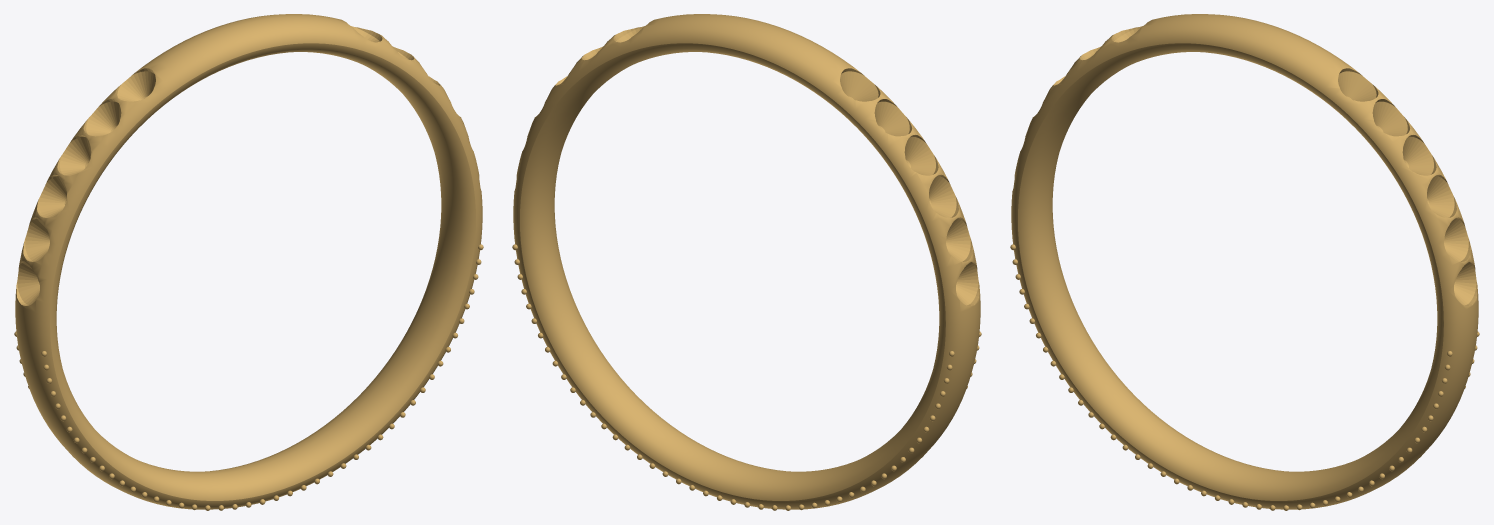
The model's file is vintage-flush-accents.glb.
3 views of the same model, side by side, from view 1: azimuth 30°, elevation 25°; view 2: azimuth 150°, elevation 25°; view 3: azimuth 330°, elevation 25° (orthographic).
Parts seen in each view (by area): view 1: Band; view 2: Band; view 3: Band.
Part boxes in pixels (x1=…): Band: x1=15, y1=14, x2=482, y2=509; Band: x1=513, y1=14, x2=980, y2=509; Band: x1=1011, y1=14, x2=1478, y2=509.
Bounding box in the file's own units: 19.6 × 19.6 × 2.22.
